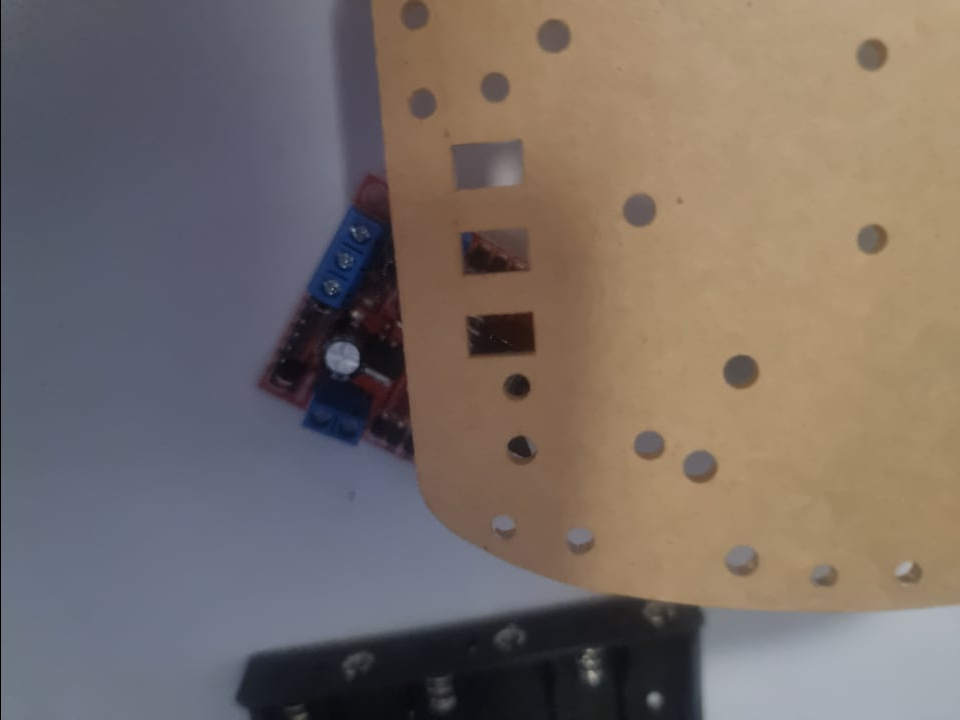BATTERY BOX: (229, 590, 722, 720)
MOTOR: (252, 158, 522, 469)
